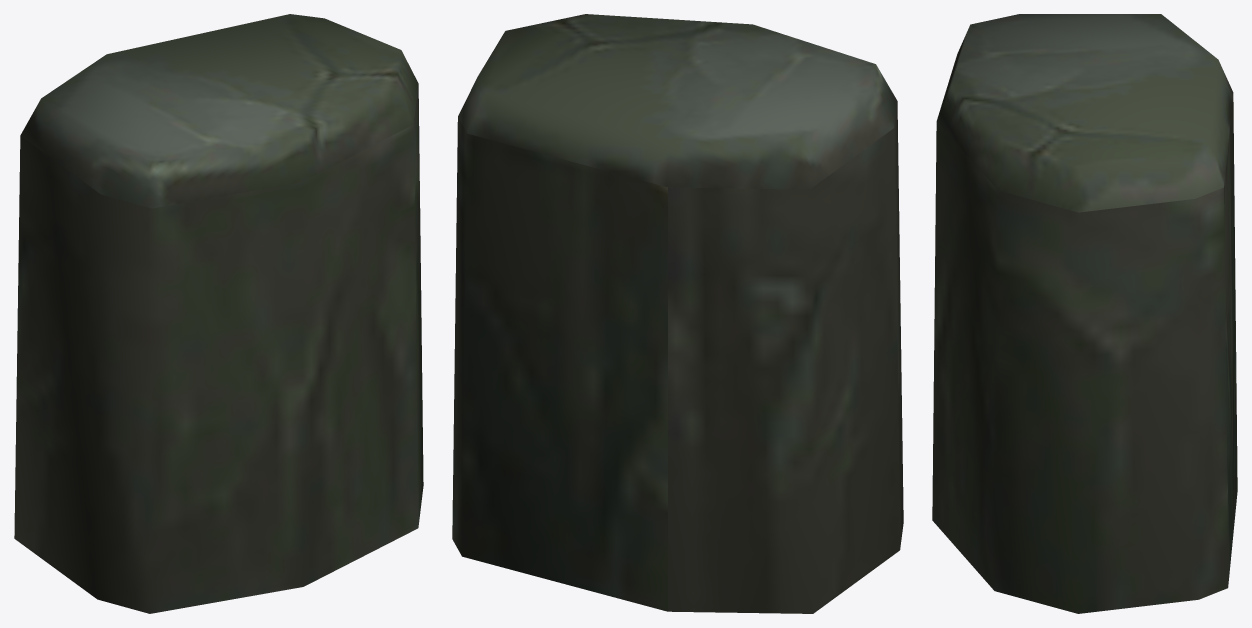
Rendered from 0068_HT_MJ_ShiTou07.glb.
3 renders of one model, left to right at view 1: azimuth 30°, elevation 25°; view 2: azimuth 150°, elevation 25°; view 3: azimuth 270°, elevation 25°, orthographic. The views are drawn at different scales.
Size of the model in its own units: 1.89 by 2.2 by 1.4.
1 material, 1 textured.
